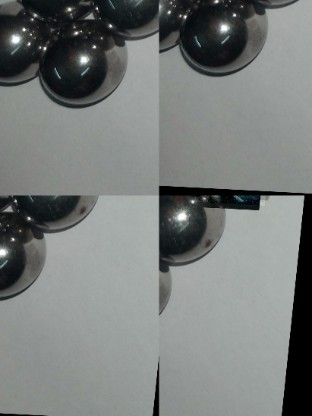ironball: (182, 1, 275, 80), (41, 23, 129, 106), (159, 195, 233, 266), (0, 212, 47, 301), (0, 0, 42, 85), (7, 191, 98, 229), (92, 0, 161, 37), (158, 247, 181, 338), (159, 0, 195, 54)
